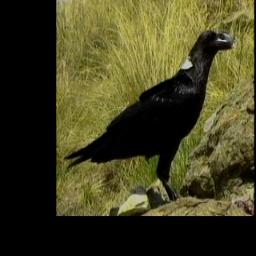Crow: (62, 28, 236, 205)
